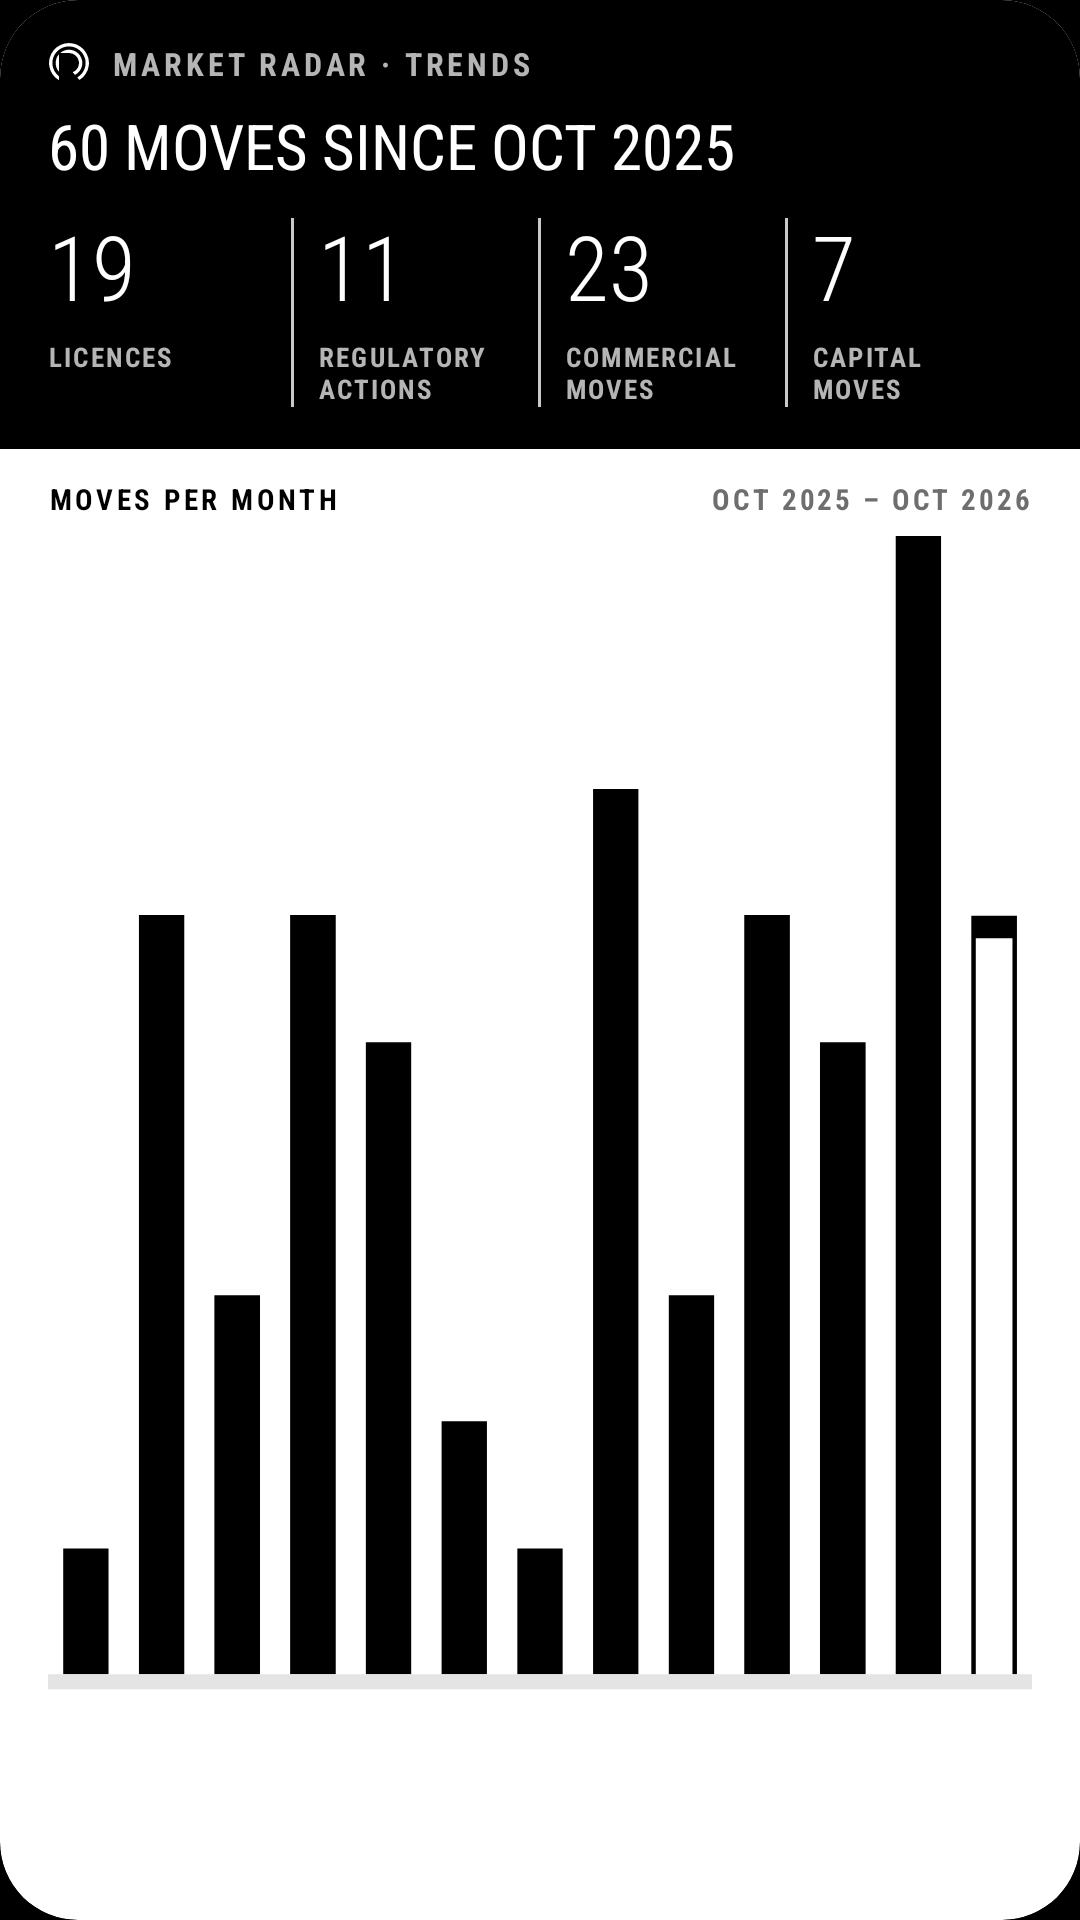

Icons on this 1080px x 1920px Android screen, each with the point to tap as (x=x, y=y):
mono mark: (x=69, y=61)
